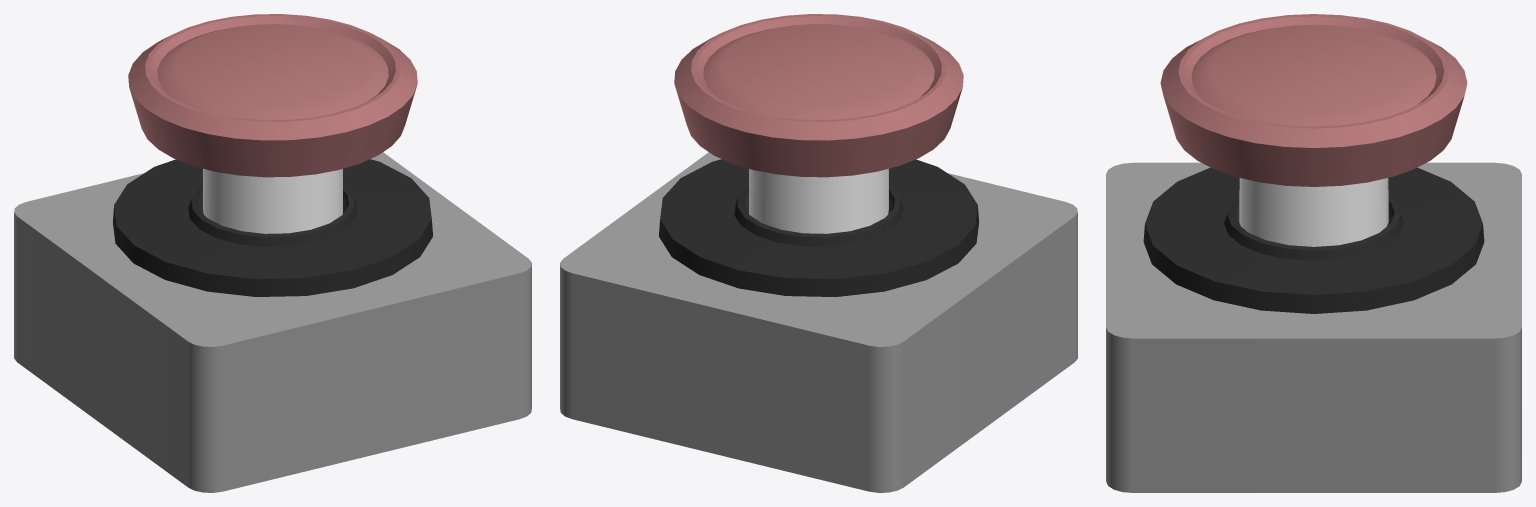
Rendered from PushButton Visuals.fbx.
The picture shows the model from 3 angles, left to right: view 1: azimuth 30°, elevation 25°; view 2: azimuth 150°, elevation 25°; view 3: azimuth 270°, elevation 25°; orthographic projection. The views are drawn at different scales.
Visible parts, largest first — view 1: EmergencyStopPlate, EmergencyStop; view 2: EmergencyStopPlate, EmergencyStop; view 3: EmergencyStopPlate, EmergencyStop.
Boxes of the visible parts, x1,y1,x2,y2 form: EmergencyStopPlate: (14, 152, 531, 492); EmergencyStop: (128, 14, 417, 233); EmergencyStopPlate: (560, 152, 1077, 492); EmergencyStop: (674, 14, 963, 233); EmergencyStopPlate: (1106, 162, 1521, 492); EmergencyStop: (1160, 14, 1467, 246).
Bounding box in the file's own units: 12.76 × 11.53 × 12.76.
